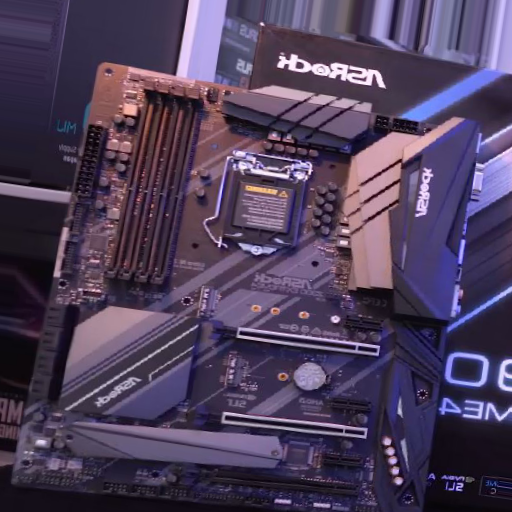CPU: (218, 161, 308, 258)
GPU: (190, 403, 369, 442), (209, 317, 384, 356)
MOTHERBOARD: (8, 54, 486, 505)
RAM: (100, 76, 206, 298)
SSD: (218, 351, 248, 391), (192, 287, 217, 321)
